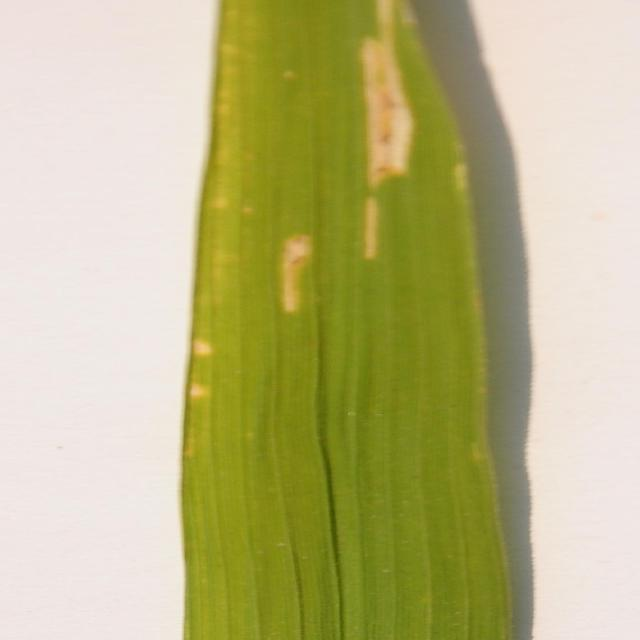Bacterial leaf blight: (340, 0, 474, 276), (260, 221, 324, 323), (190, 332, 218, 363), (187, 378, 214, 410)
